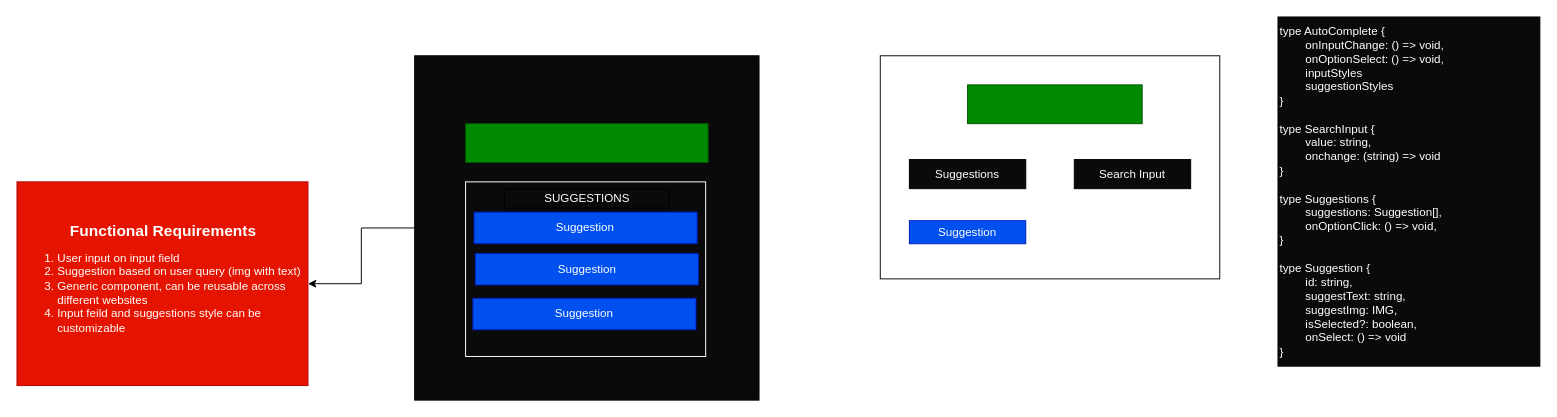
The diagram is 1557 pixels wide and 417 high, and some of its shapes have lost their labels. The centre of each missing label's shape, as x and y in pixels:
Autocomplete: [1054,104]
INPUT FIELD: [586,142]
